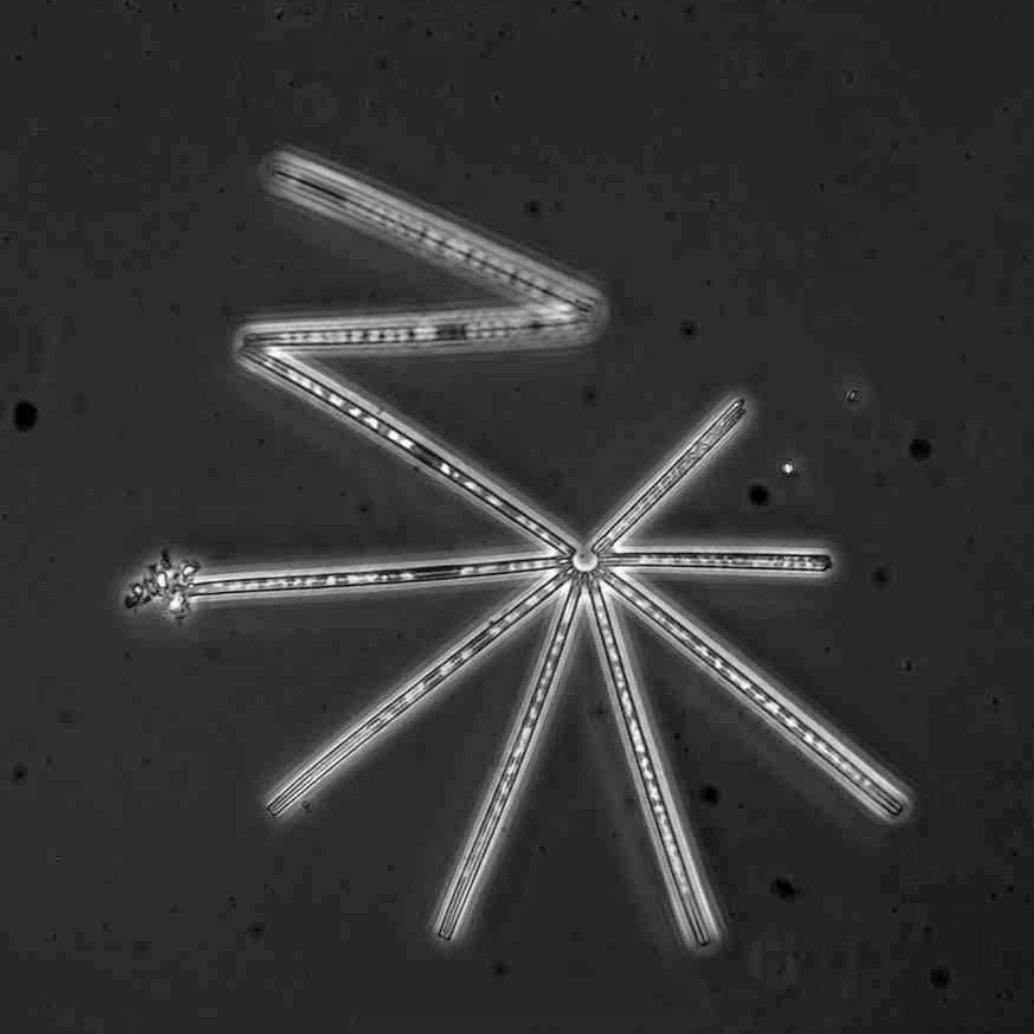thalassionema_nitzschioides: (163, 158, 906, 944)
